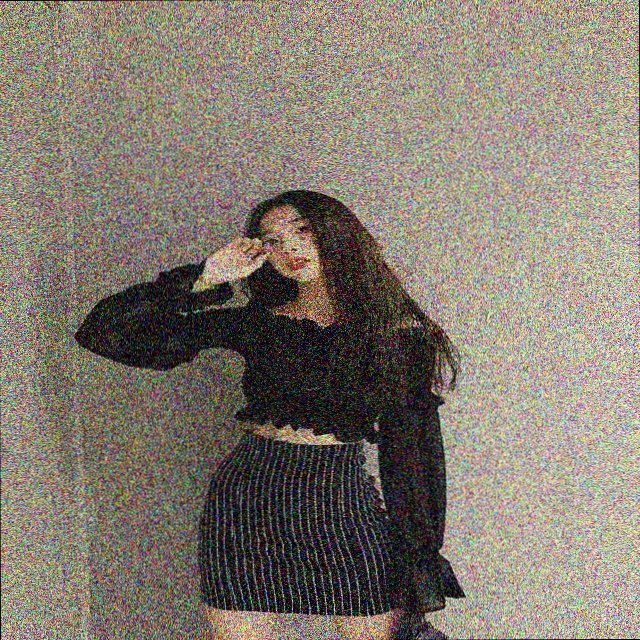Crop_Top: (234, 328, 383, 446)
Miniskirt: (194, 434, 413, 640)
